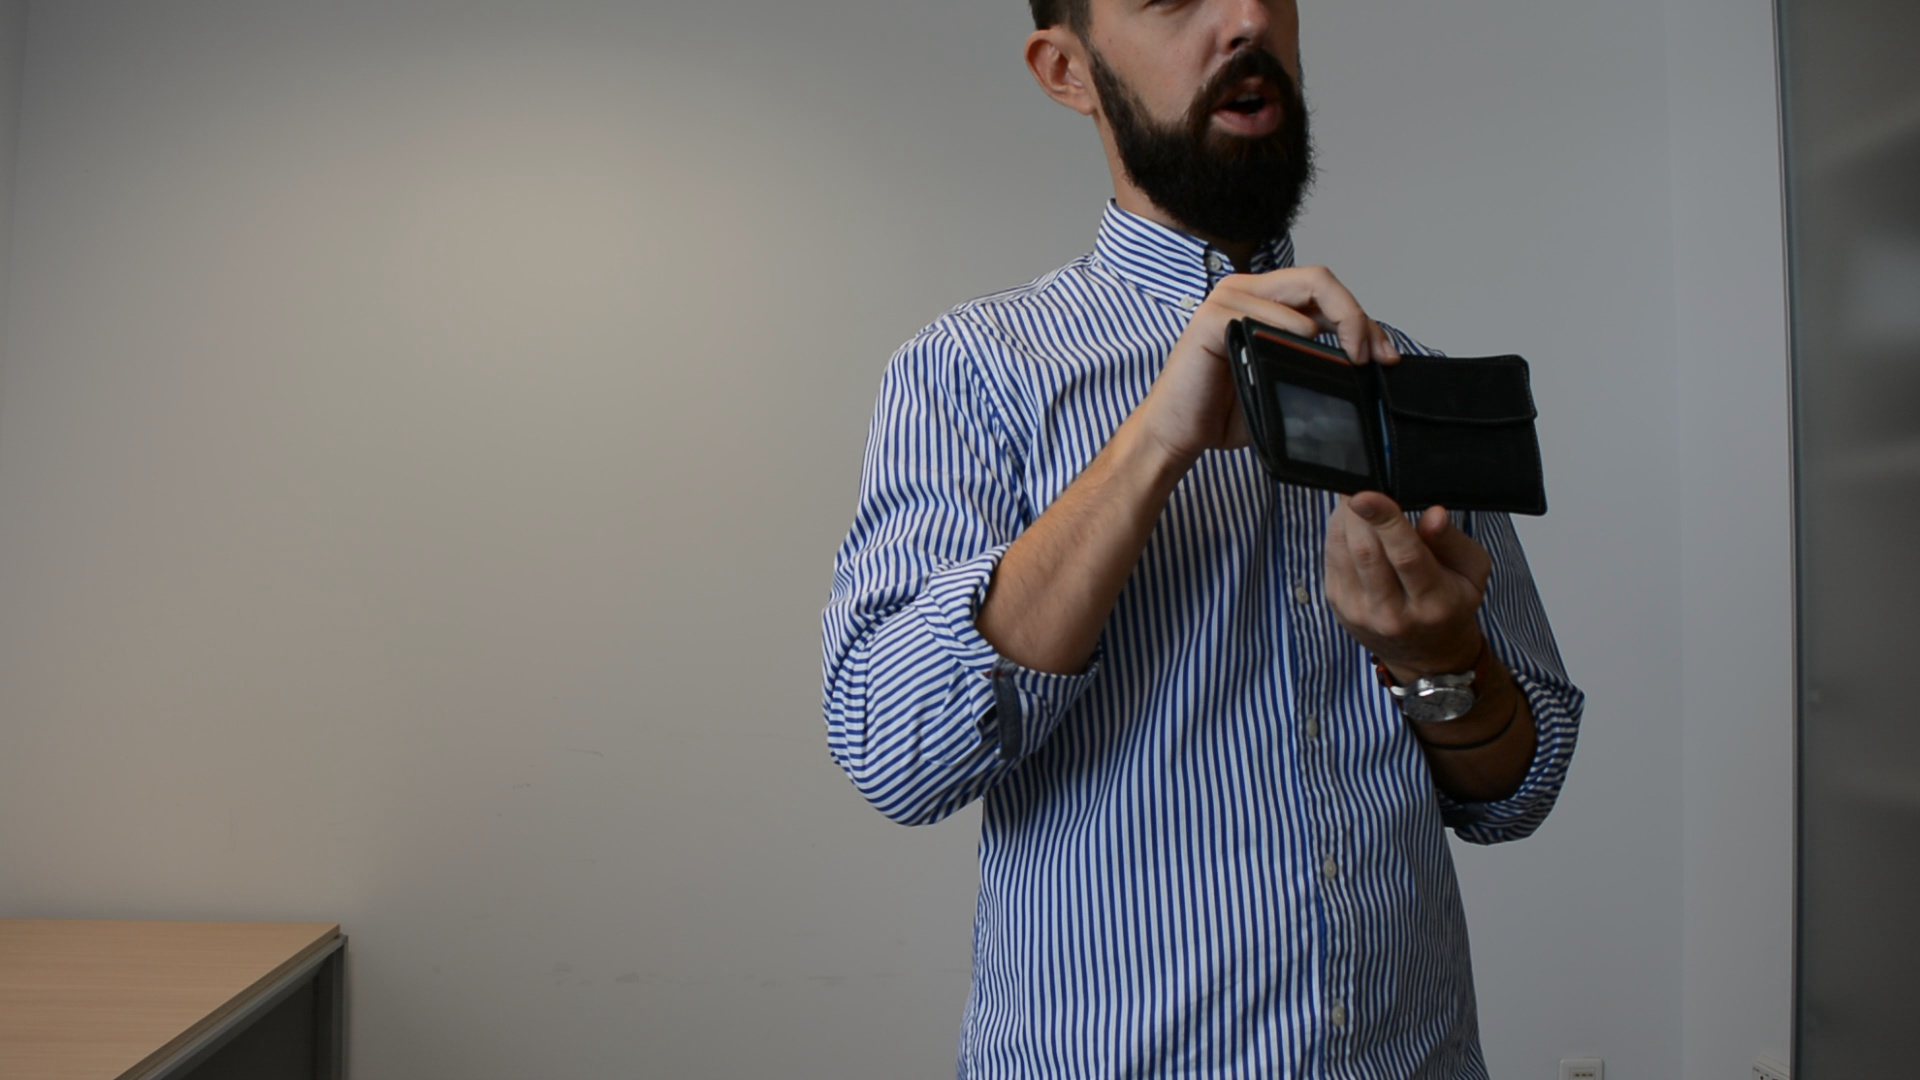monedero: (1222, 313, 1551, 518)
